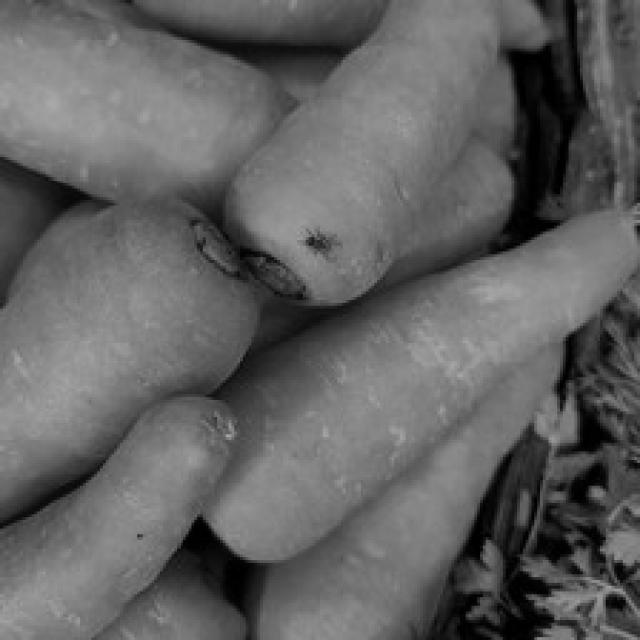Fresh_Carrot: (214, 291, 637, 544), (5, 6, 268, 214)
